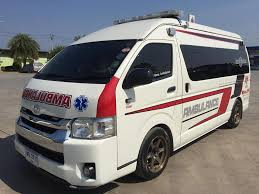van: (14, 9, 251, 190)
